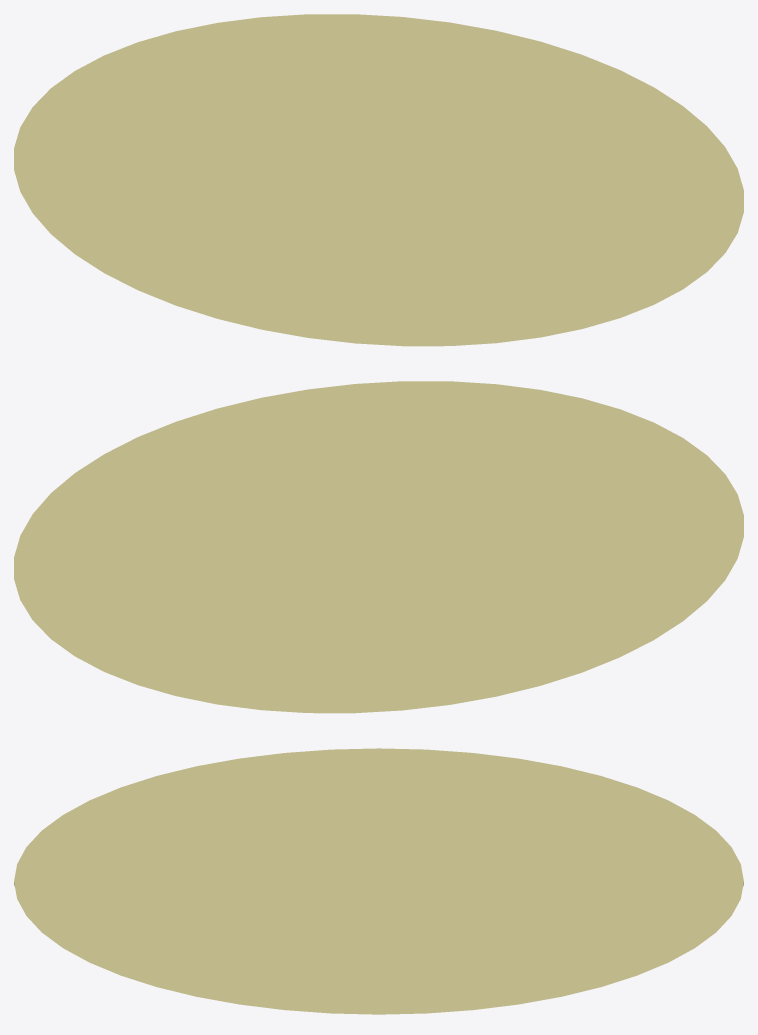
3 renders of one model, top to bottom at view 1: azimuth 30°, elevation 25°; view 2: azimuth 150°, elevation 25°; view 3: azimuth 270°, elevation 25°, orthographic. The views are drawn at different scales.
Size of the model in its own units: 2.42 by 0.025 by 2.81.
